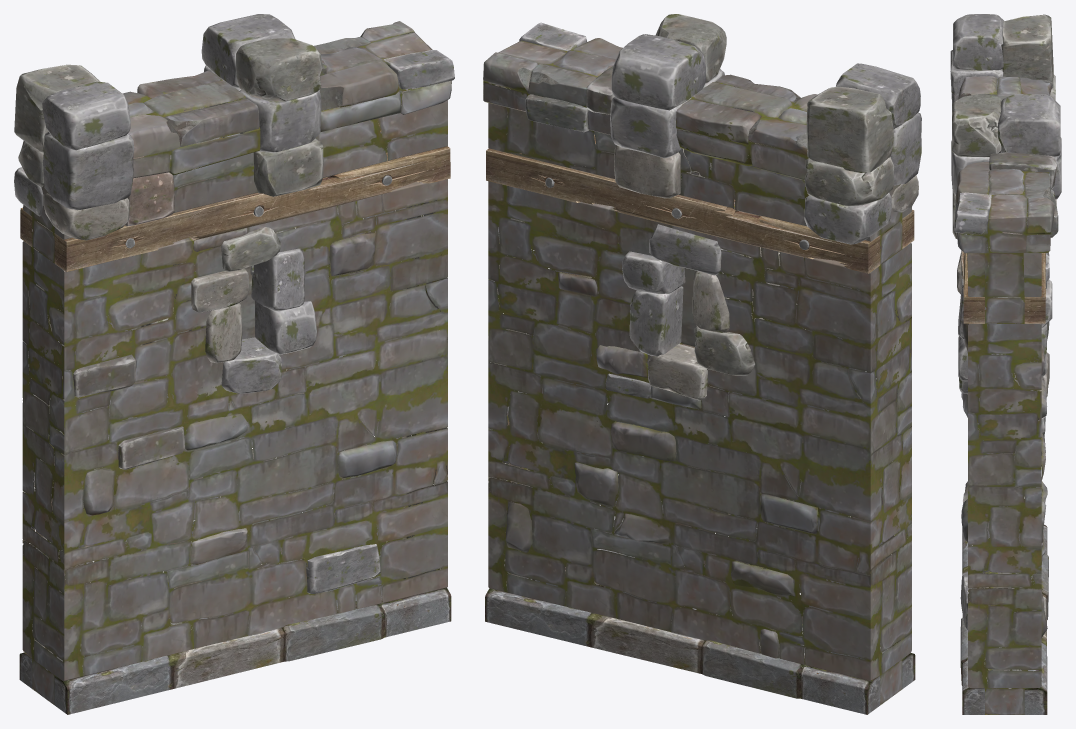
3 views of the same model, side by side, from view 1: azimuth 30°, elevation 25°; view 2: azimuth 150°, elevation 25°; view 3: azimuth 270°, elevation 25° (orthographic). The views are drawn at different scales.
Parts seen in each view (by area): view 1: SM_Castle_Wall_4x6_01_v1_LOD0; view 2: SM_Castle_Wall_4x6_01_v1_LOD0; view 3: SM_Castle_Wall_4x6_01_v1_LOD0.
Part boxes in pixels (left/top/right/bottom): SM_Castle_Wall_4x6_01_v1_LOD0: left=14, top=14, right=454, bottom=714; SM_Castle_Wall_4x6_01_v1_LOD0: left=483, top=14, right=921, bottom=714; SM_Castle_Wall_4x6_01_v1_LOD0: left=950, top=14, right=1061, bottom=714.
Size of the model in its own units: 4.05 by 6.05 by 1.13.
6 materials, 6 textured.
